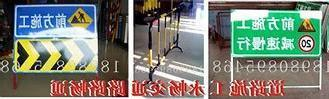sign: (13, 4, 97, 73), (231, 8, 320, 56)
